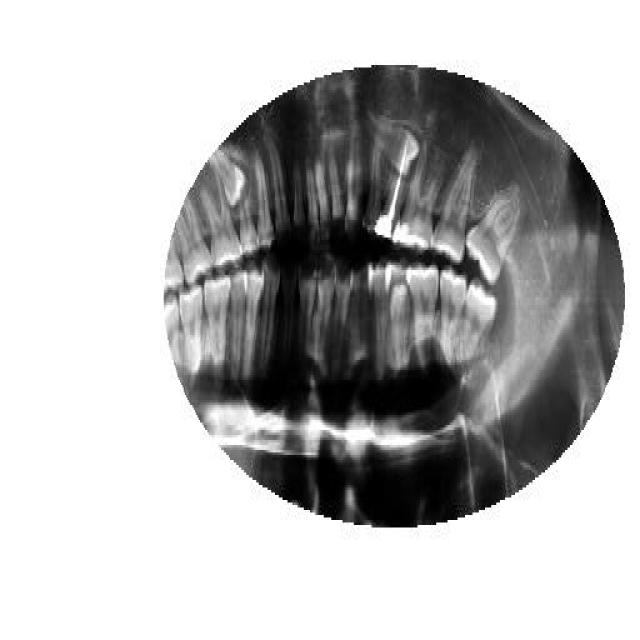Implant: (374, 132, 415, 242)
